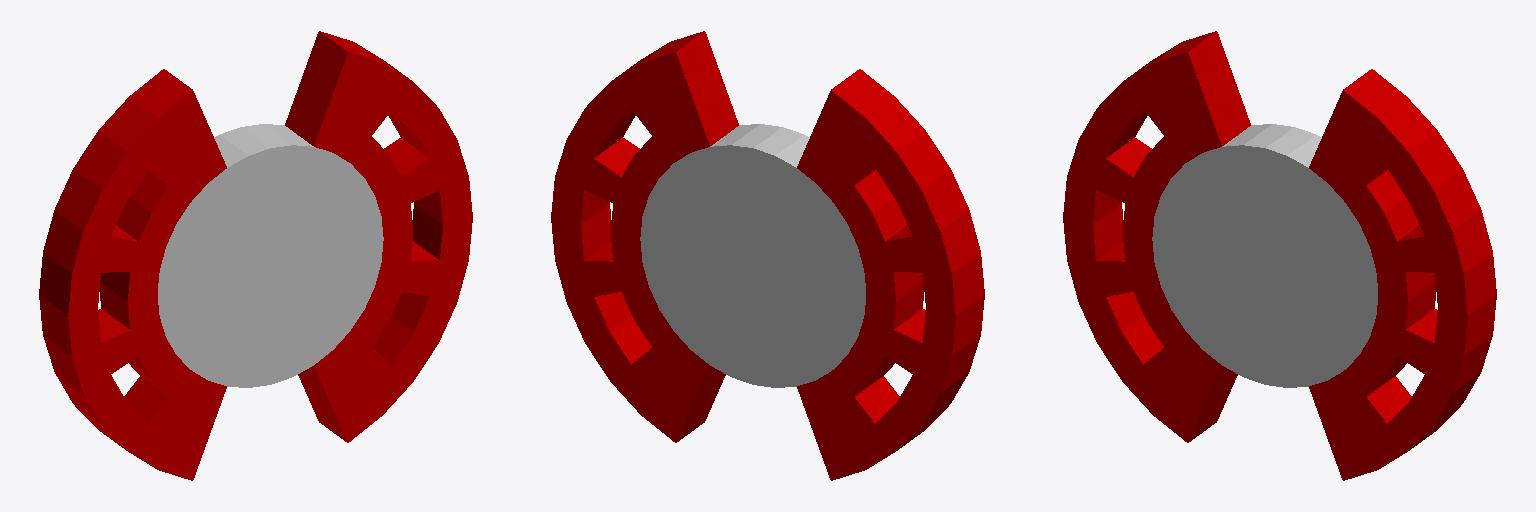
File: CircularDoor.obj
The picture shows the model from 3 angles: view 1: azimuth 30°, elevation 25°; view 2: azimuth 150°, elevation 25°; view 3: azimuth 330°, elevation 25°; orthographic projection.
Parts seen in each view (by area): view 1: Cylinder_Cylinder.001; view 2: Cylinder_Cylinder.001; view 3: Cylinder_Cylinder.001.
Boxes of the visible parts, x1,y1,x2,y2 form: Cylinder_Cylinder.001: [39, 31, 472, 480]; Cylinder_Cylinder.001: [551, 31, 984, 480]; Cylinder_Cylinder.001: [1063, 31, 1496, 480].
Size of the model in its own units: 2 by 1.85 by 0.25.